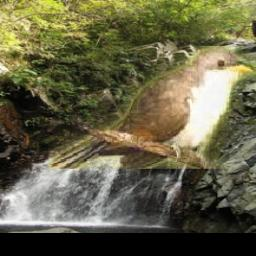Cuckoo: (48, 46, 256, 169)
